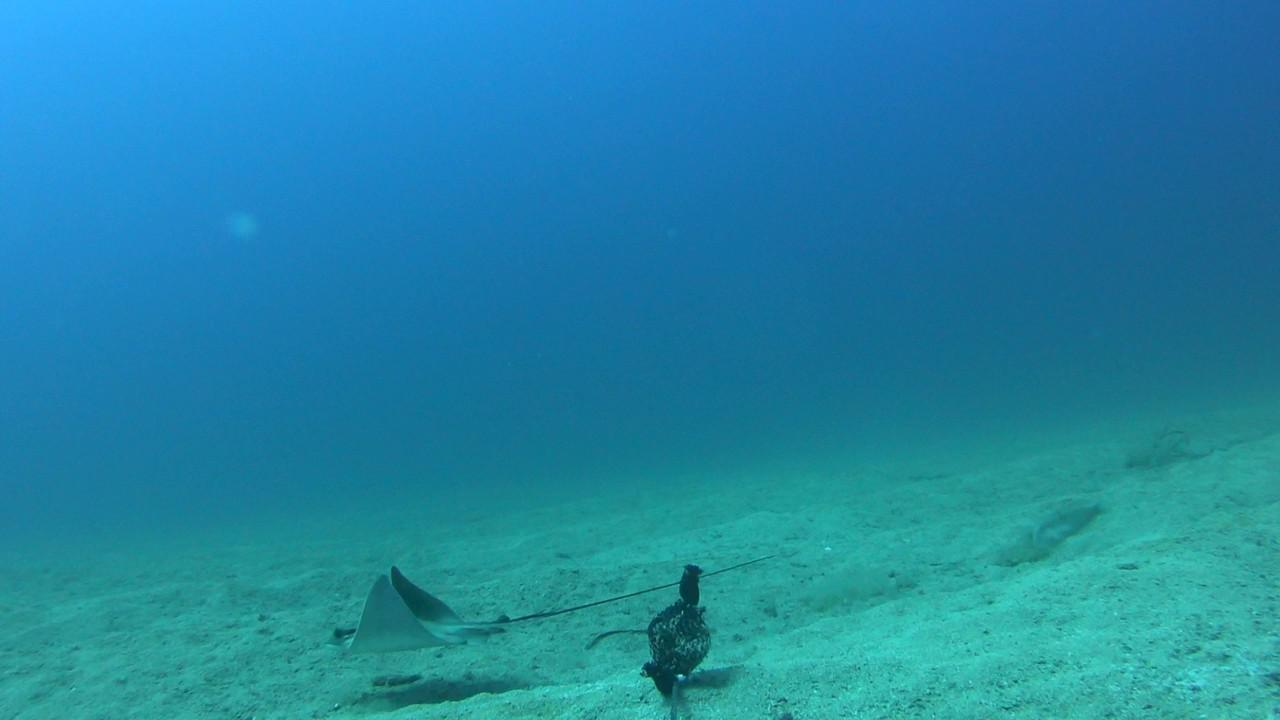myliobatis: (270, 501, 841, 656)
